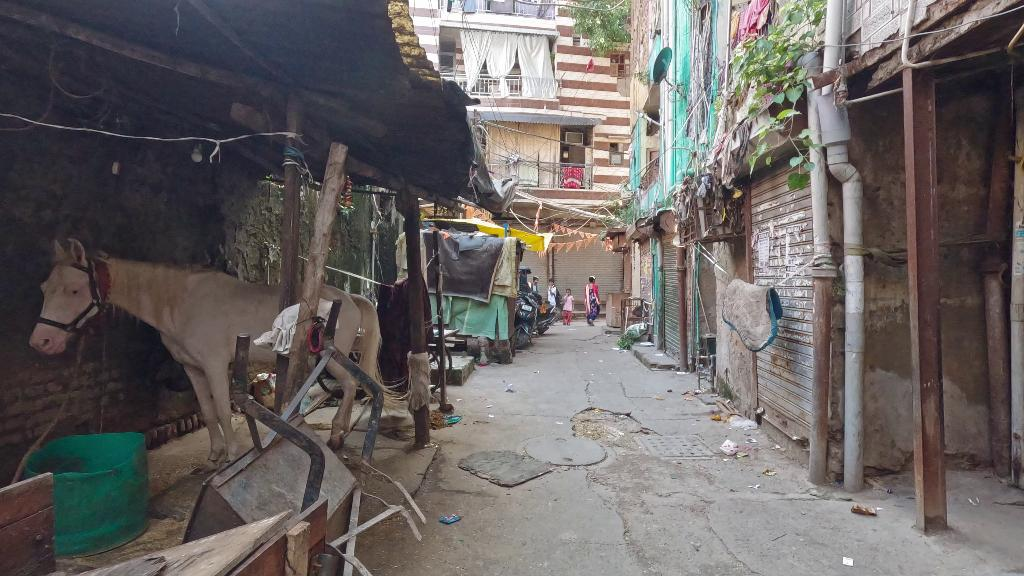garbage: (723, 407, 761, 433), (851, 503, 877, 523), (717, 437, 740, 458), (440, 511, 464, 530), (444, 412, 462, 429), (639, 339, 655, 347)
